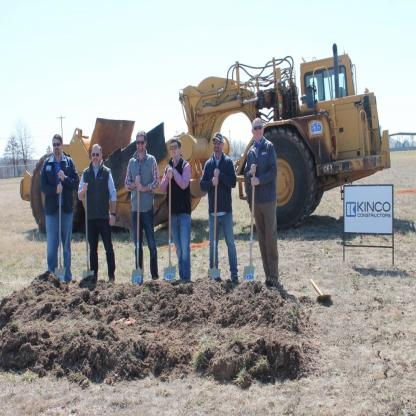person: (236, 103, 280, 284), (161, 126, 196, 284), (79, 146, 116, 291), (202, 122, 233, 284), (126, 122, 157, 279), (44, 126, 73, 281)
